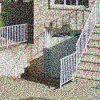stairs: (79, 16, 100, 78)
